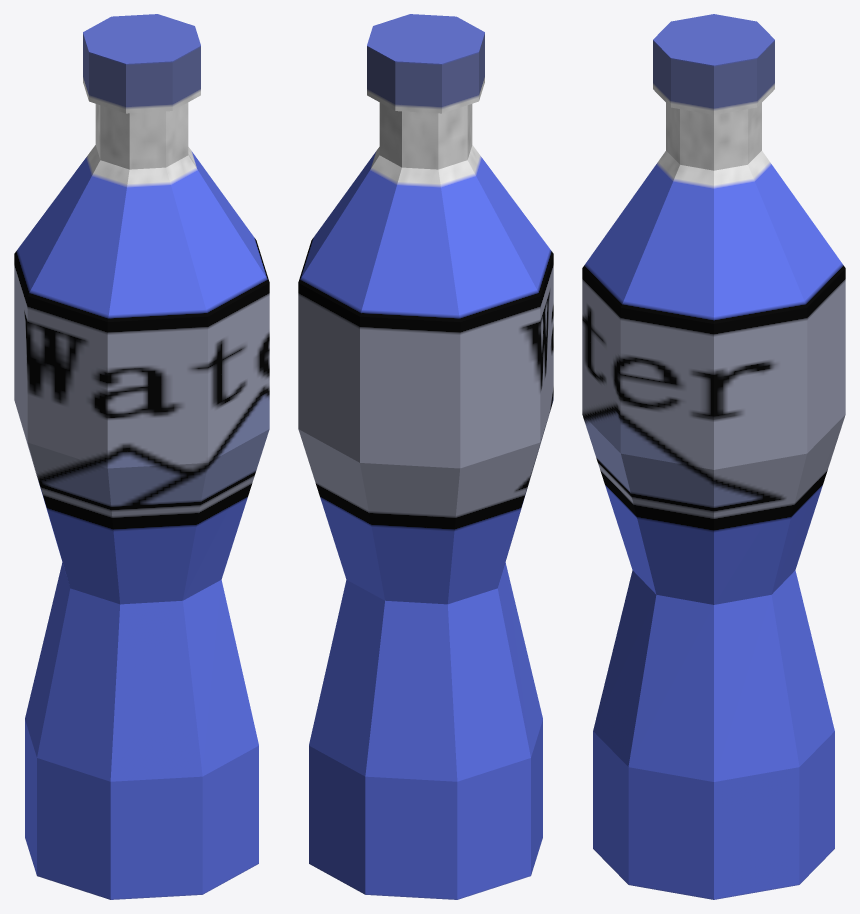
Rendered from bottle 1.FBX.
The picture shows the model from 3 angles, left to right: view 1: azimuth 30°, elevation 25°; view 2: azimuth 150°, elevation 25°; view 3: azimuth 270°, elevation 25°; orthographic projection.
Parts seen in each view (by area): view 1: 礦泉水; view 2: 礦泉水; view 3: 礦泉水.
Part boxes in pixels (<box>): 礦泉水: <box>14,14,269,899</box>; 礦泉水: <box>298,14,553,899</box>; 礦泉水: <box>582,14,845,899</box>.
Bounding box in the file's own units: 38.33 × 130 × 38.33.
1 material, 1 textured.
